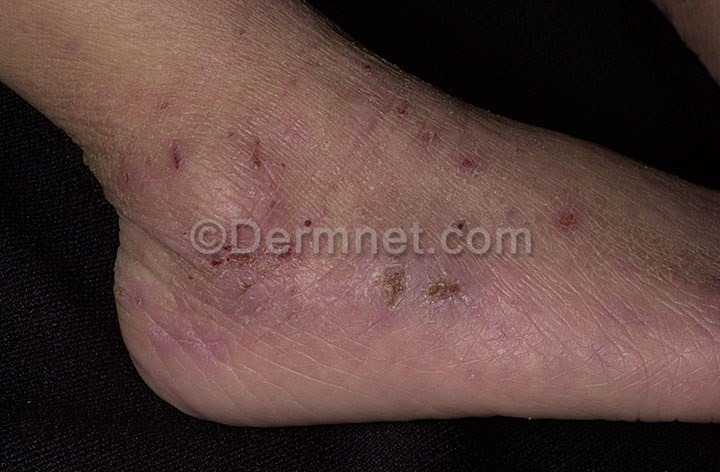Eczema: (103, 107, 714, 411), (180, 22, 429, 101)
